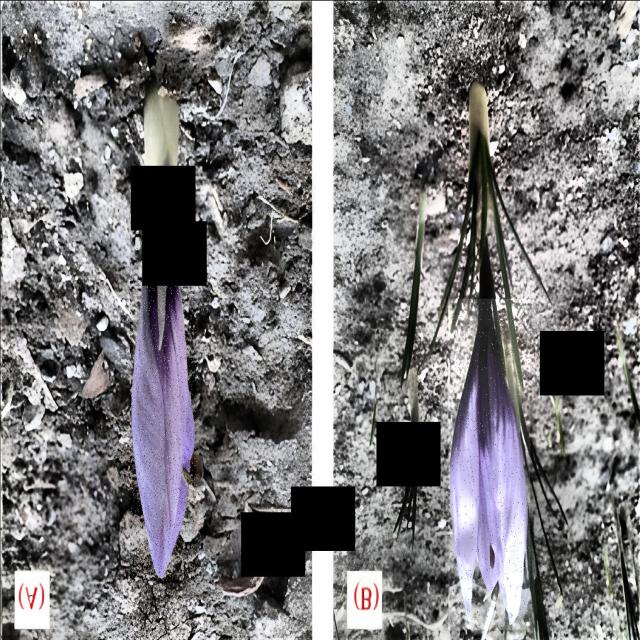Flower: (448, 298, 531, 629), (130, 204, 197, 582)
